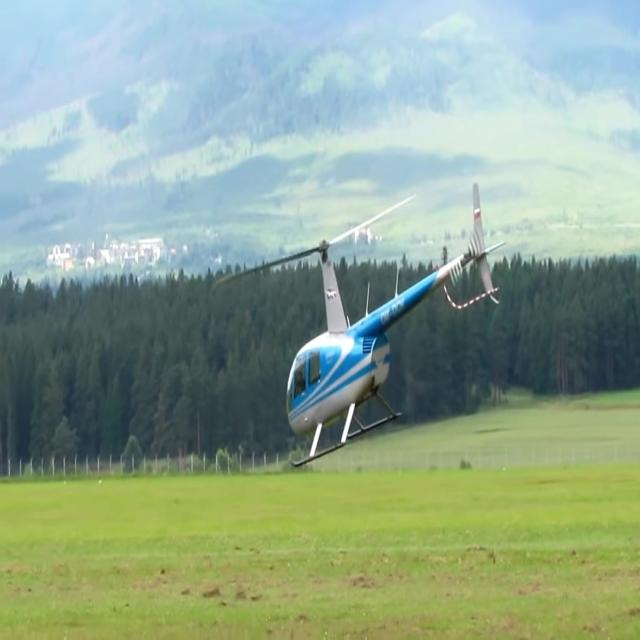CIV_HELO: (284, 183, 505, 468)
